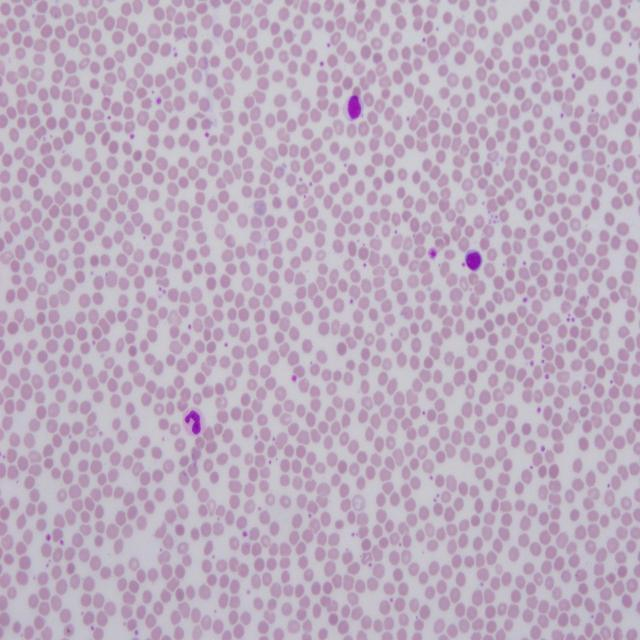cell: (182, 408, 205, 435)
